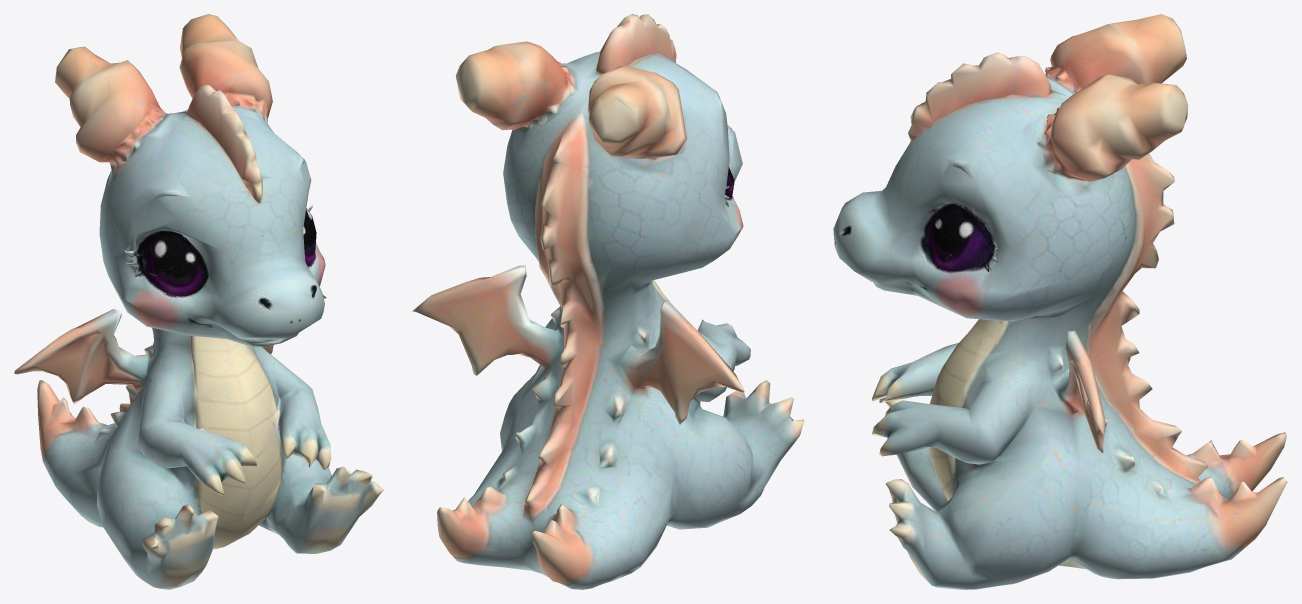
The model's file is dragon.glb.
3 renders of one model, left to right at view 1: azimuth 30°, elevation 25°; view 2: azimuth 150°, elevation 25°; view 3: azimuth 270°, elevation 25°, orthographic. The views are drawn at different scales.
Bounding box in the file's own units: 1.34 × 1.9 × 1.58.
Materials: 1 (1 with a texture image).
